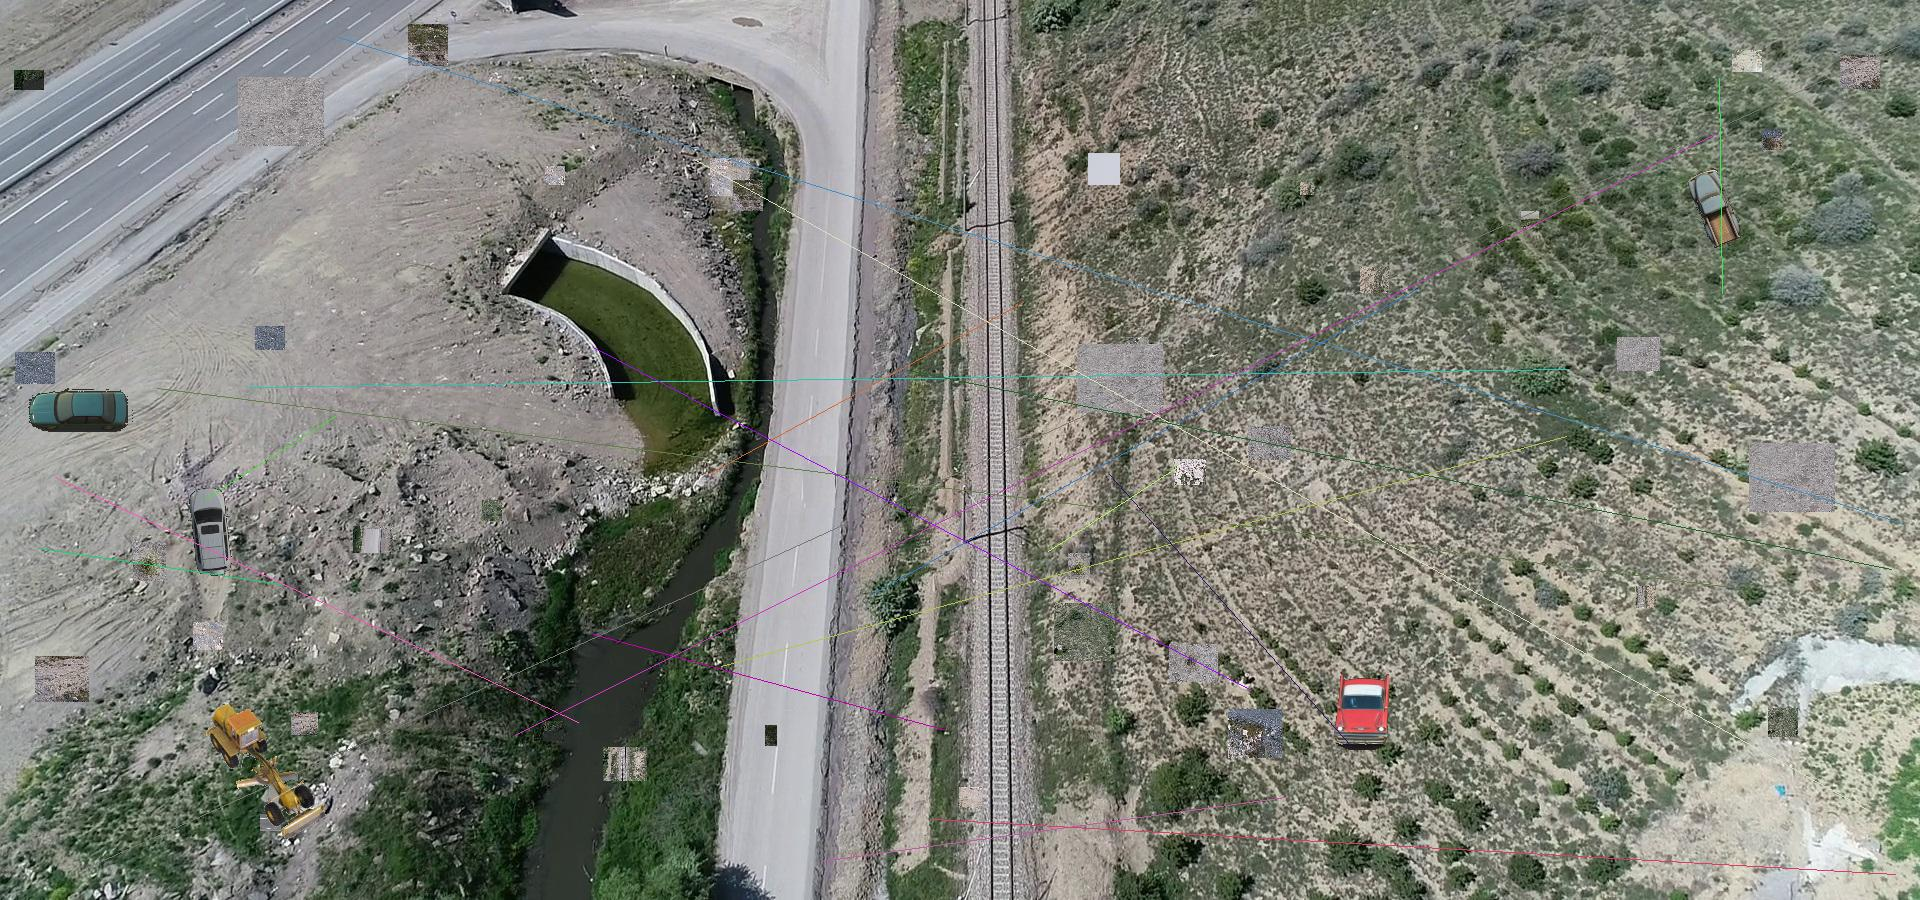arac: (203, 700, 332, 842), (1333, 673, 1393, 752), (28, 388, 133, 432), (1686, 168, 1742, 249), (184, 489, 234, 578)
